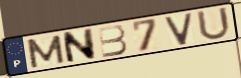7: (131, 17, 160, 54)
B: (97, 24, 130, 59)
M: (24, 33, 67, 70)
N: (60, 27, 98, 65)
U: (194, 6, 232, 42)
V: (163, 11, 195, 47)
